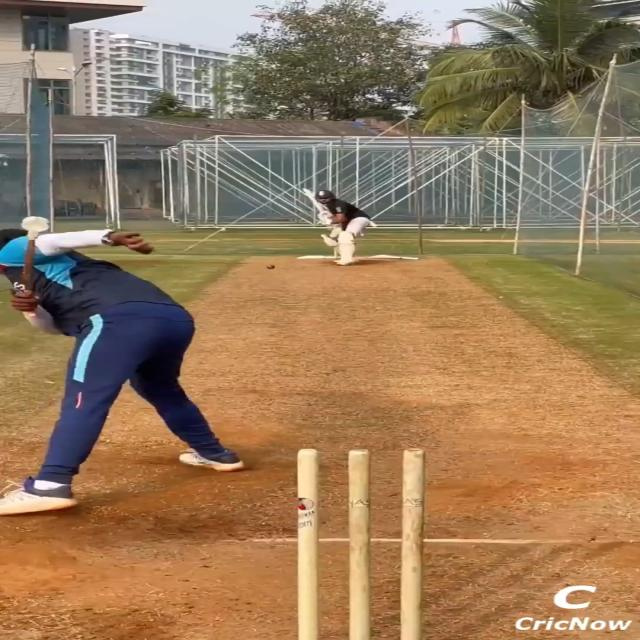ball: (265, 264, 276, 271)
stump: (293, 446, 427, 640)
